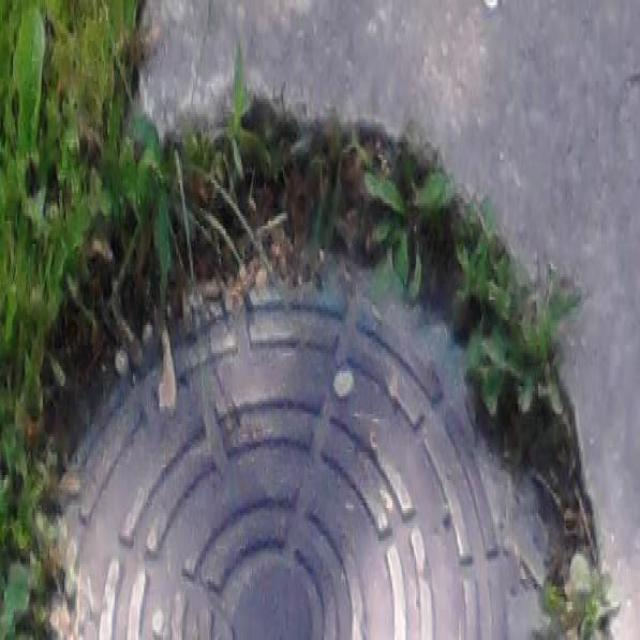hole: (0, 56, 619, 640)
